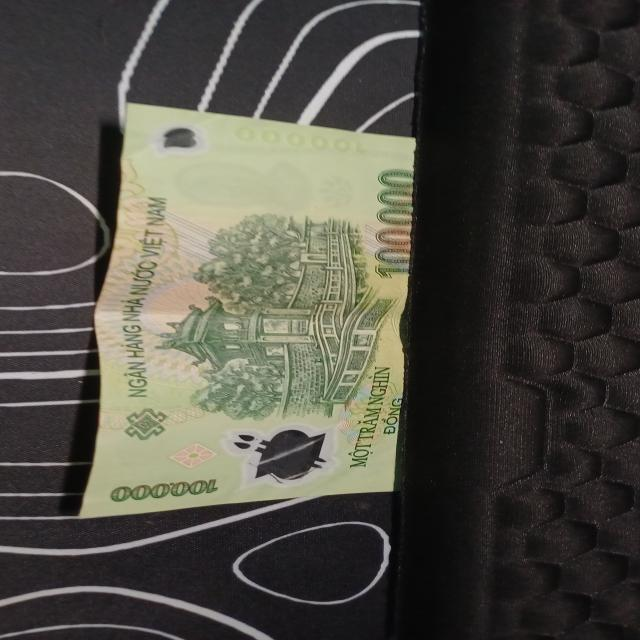100 000 VND: (67, 98, 419, 533)
